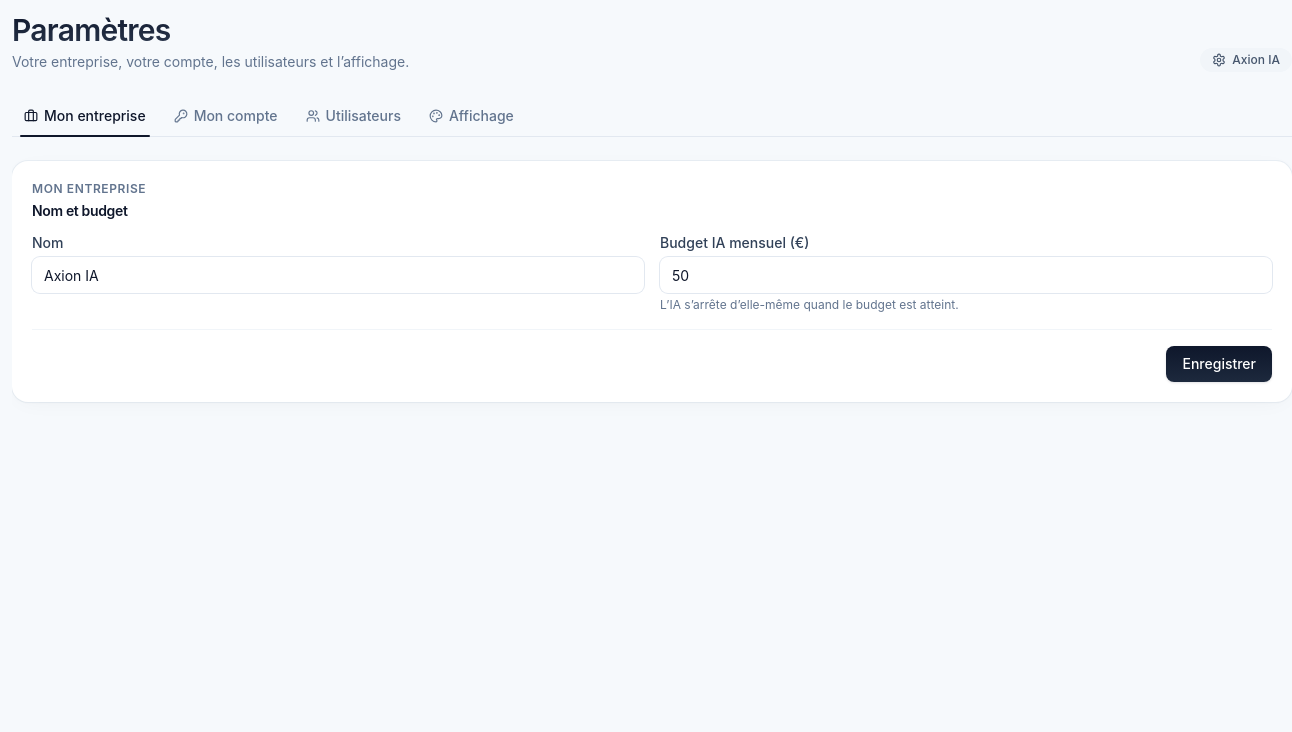
Test: D26-003 · Workspace — un enregistrement qui echoue doit le DIRE › 501 : l’ecran affiche le message DU SERVEUR et le code, pas un « Erreur » anonyme
Expected: the field labelled "Nom" is shown, top-left (32, 257), bottom-right (644, 293)
Click the button "Enregistrer". click: (1219, 364)
box: top-left (1166, 346), bottom-right (1272, 382)
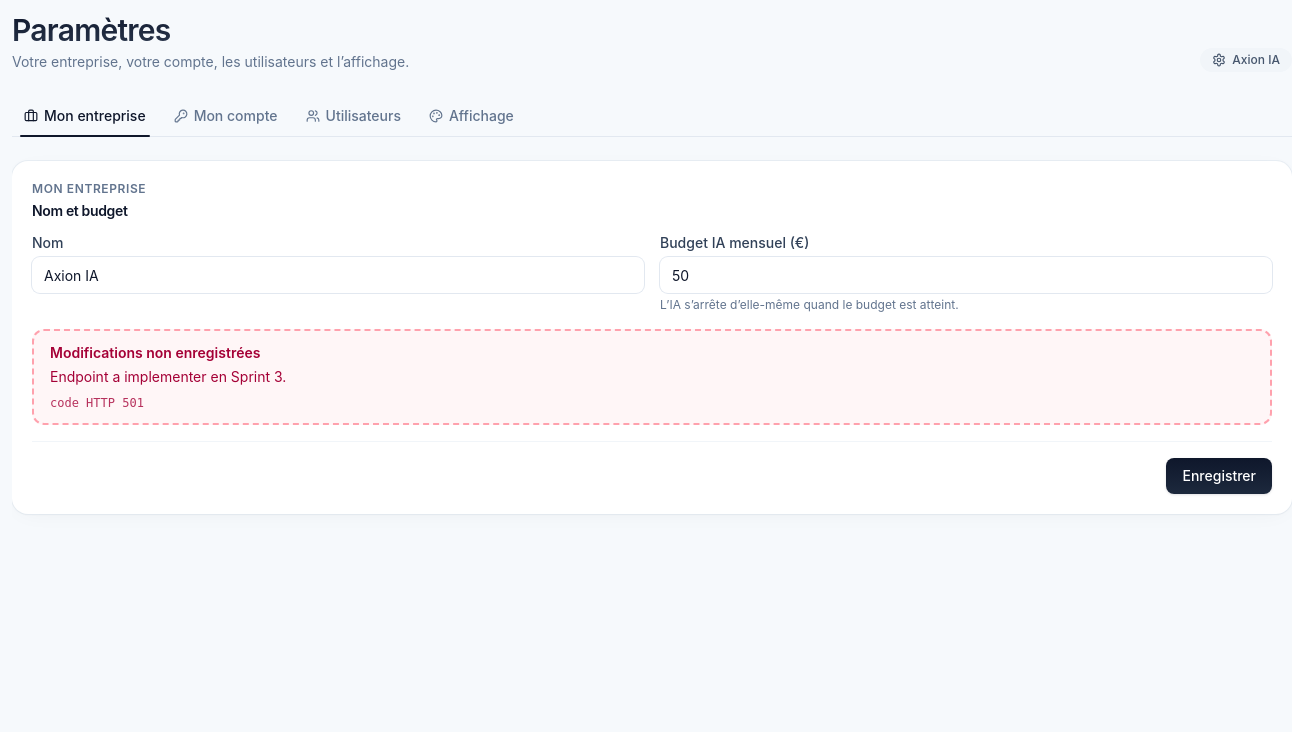
Expected: the text "Sprint 3" is shown, top-left (50, 368), bottom-right (286, 385)
Expected: the text "code HTTP 501" is shown, top-left (50, 396), bottom-right (144, 410)
Expected: the text "Modifications non enregistr" is shown, top-left (50, 344), bottom-right (260, 361)
